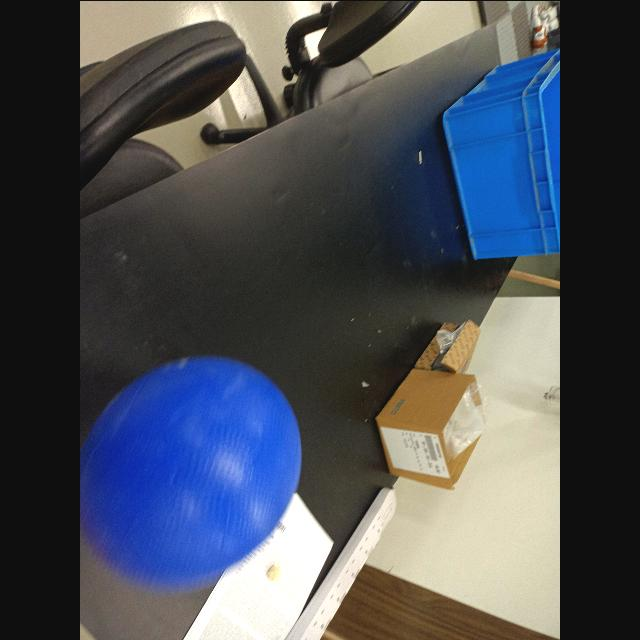B: (82, 349, 304, 585)
